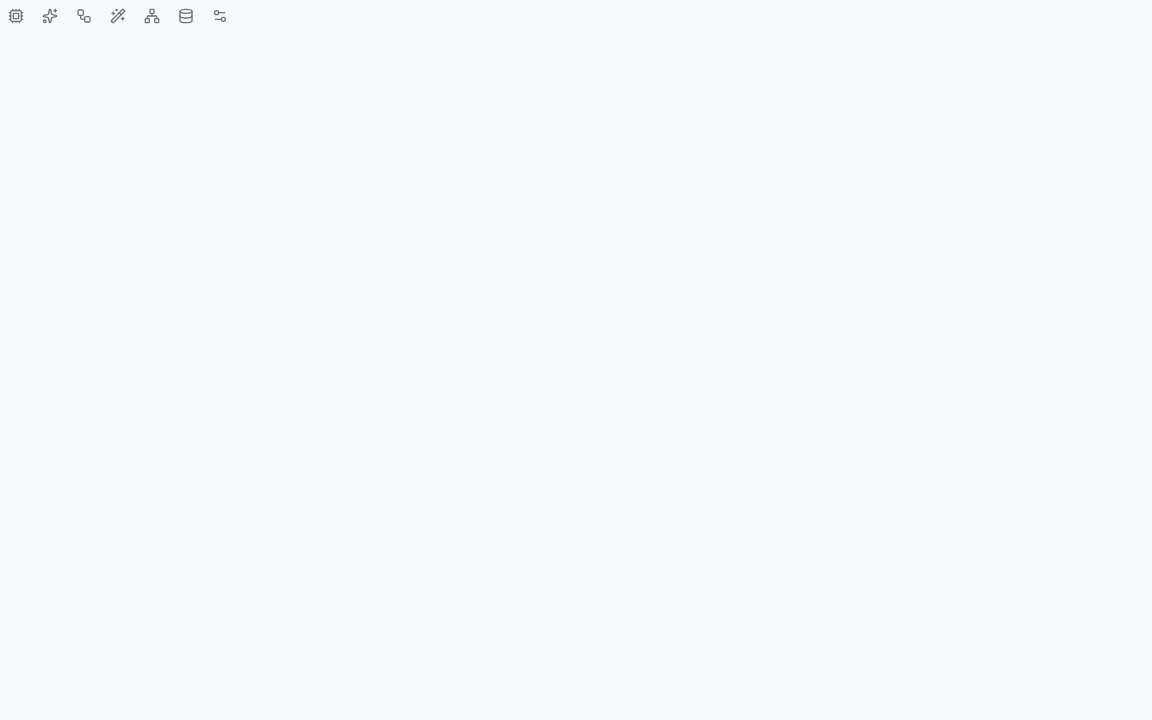
Test: ConfigButtonArea › 已有活动会话时不重复建会话，直接打开弹窗
Click the button named "思考模式" at (50, 16), box [34,0,66,32]
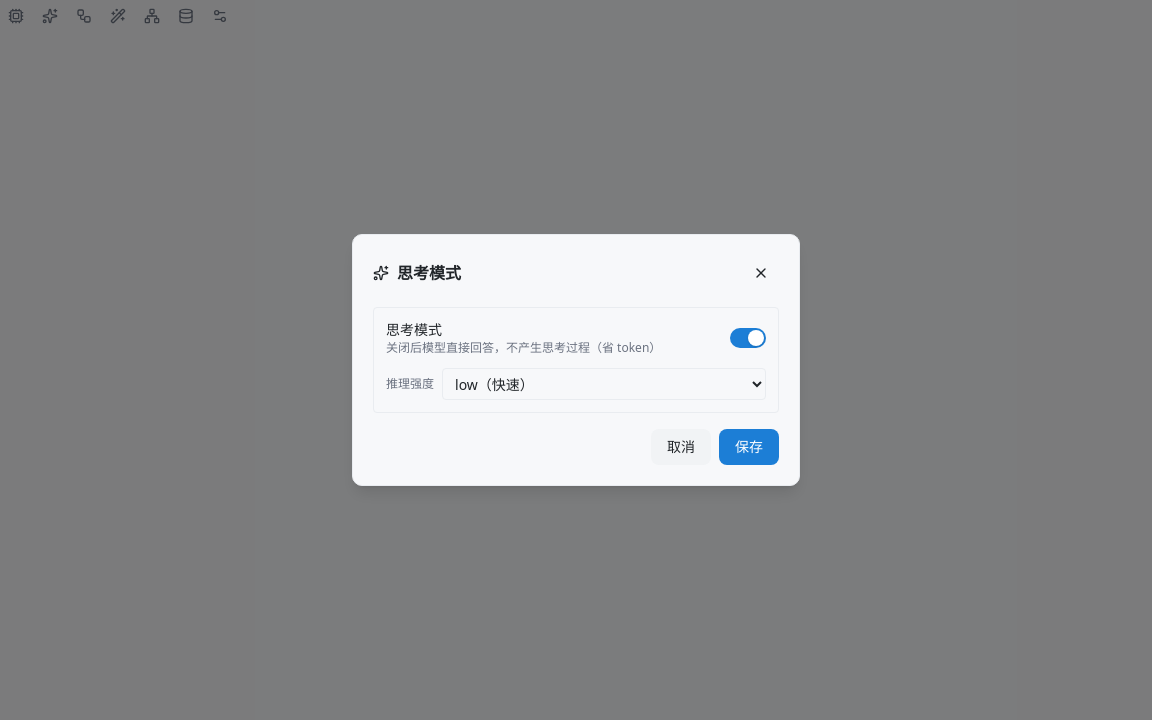
Now the dialog is shown
